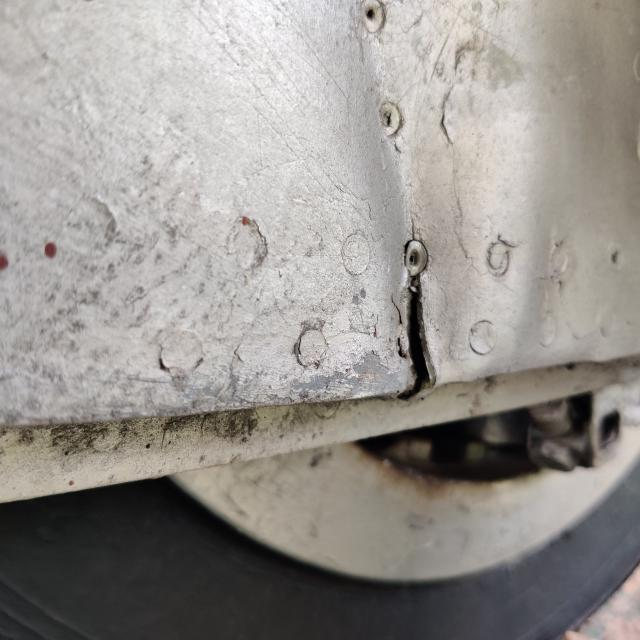crack: (369, 260, 459, 408)
